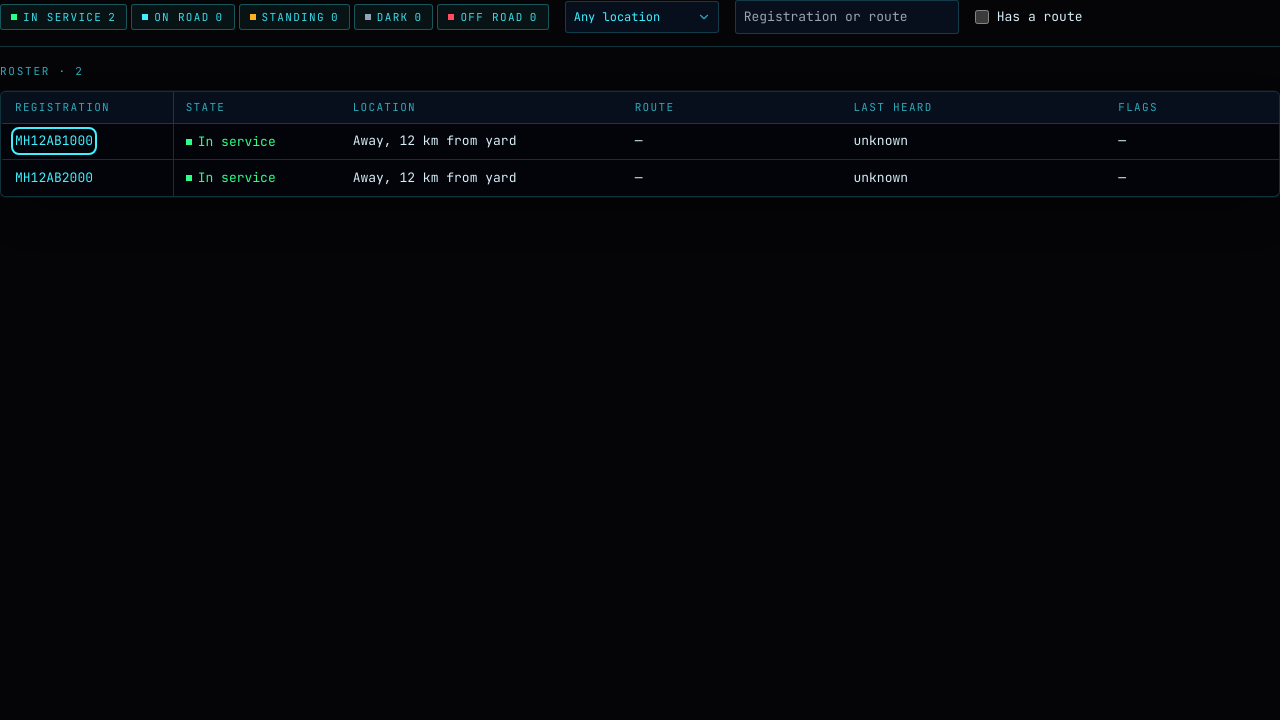
Test: RosterPage drawer focus under StrictMode › returns focus to the button that opened the drawer
Click the button "MH12AB1000".
click(54, 141)  # box [15, 131, 93, 151]
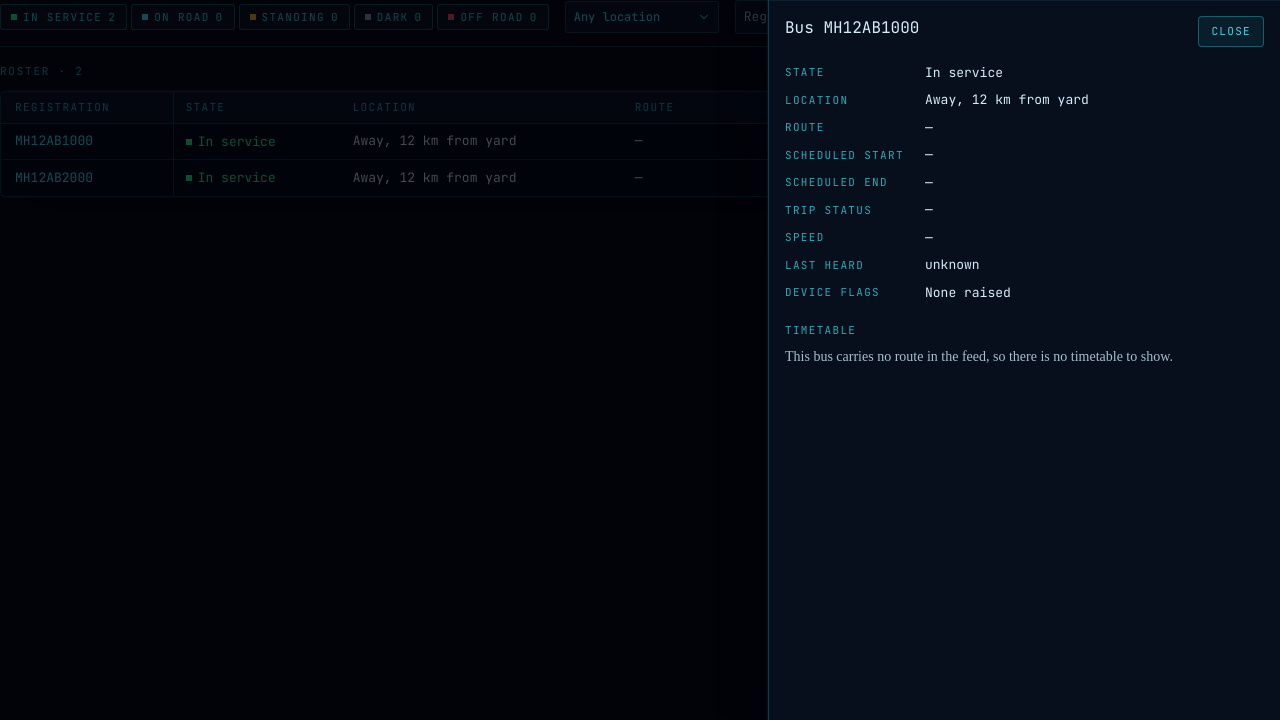
Now the dialog is shown, box [768, 0, 1279, 719]
Click the button "Close".
click(1231, 31)  # box [1198, 16, 1264, 46]
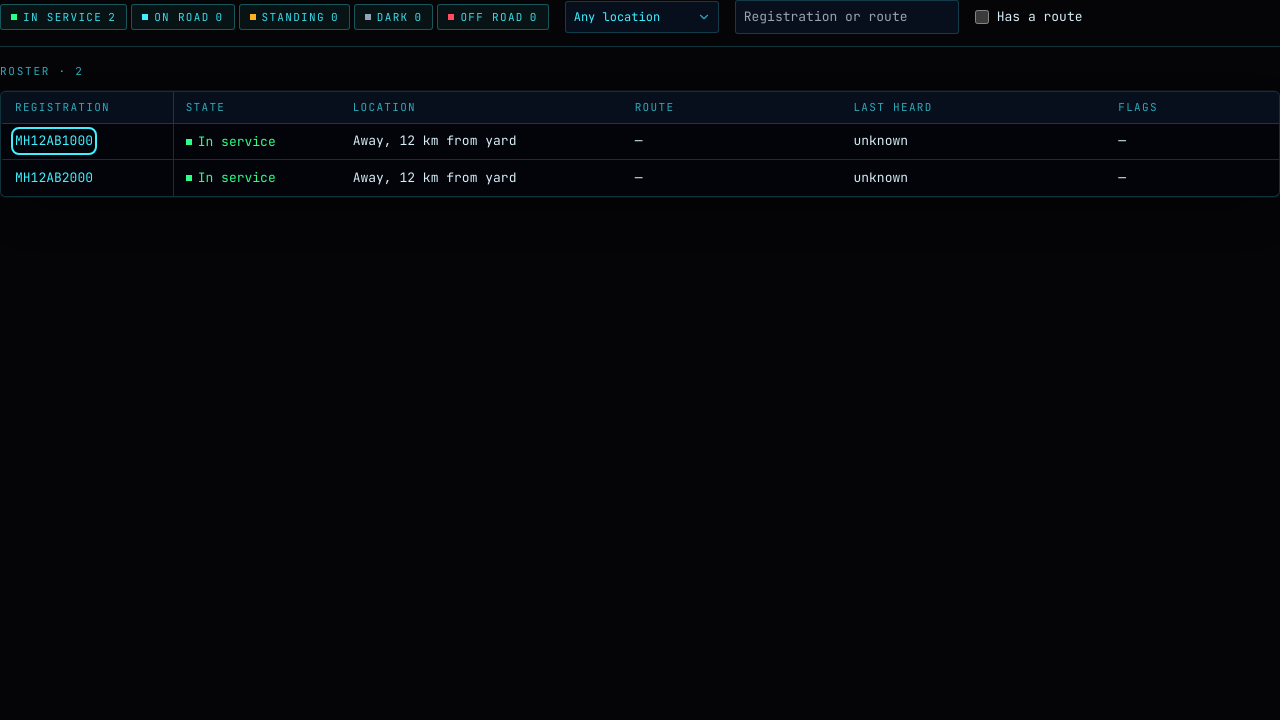
Now the dialog is gone
